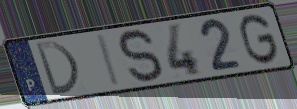2: (198, 16, 247, 74)
4: (167, 21, 203, 78)
D: (32, 39, 81, 97)
G: (238, 11, 282, 67)
I: (96, 33, 123, 89)
S: (117, 27, 165, 86)
